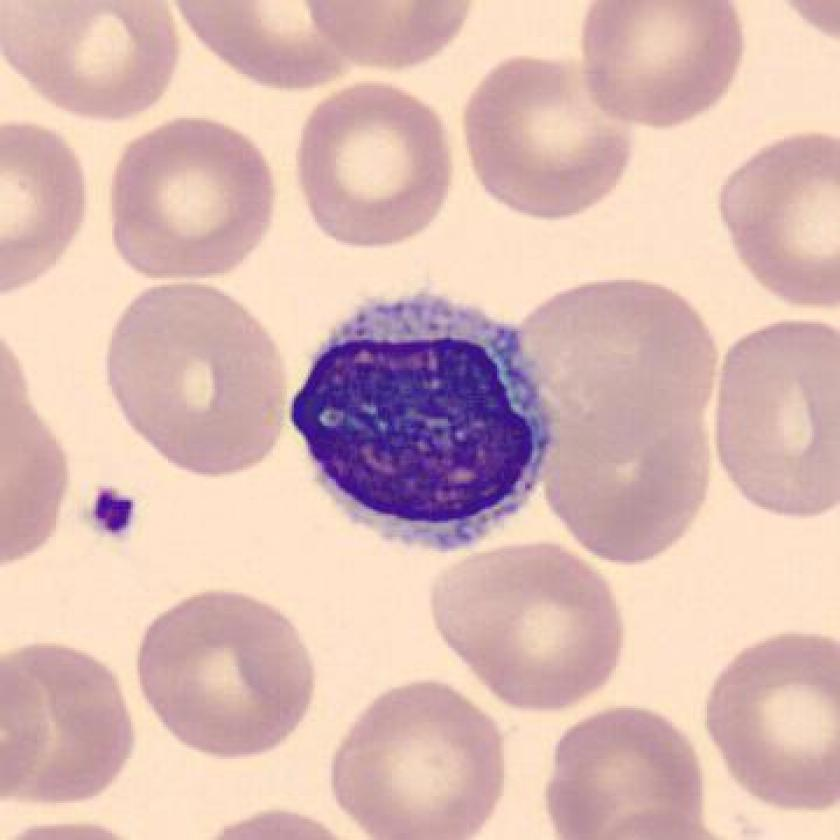lymphocyte: (274, 279, 566, 570)
